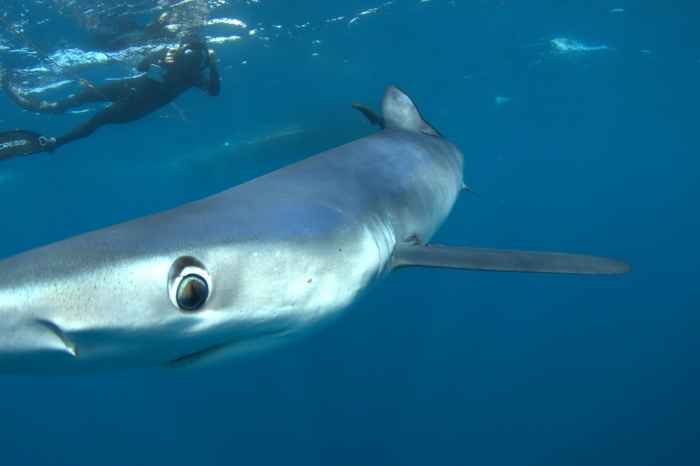Azul: (1, 88, 651, 373)
